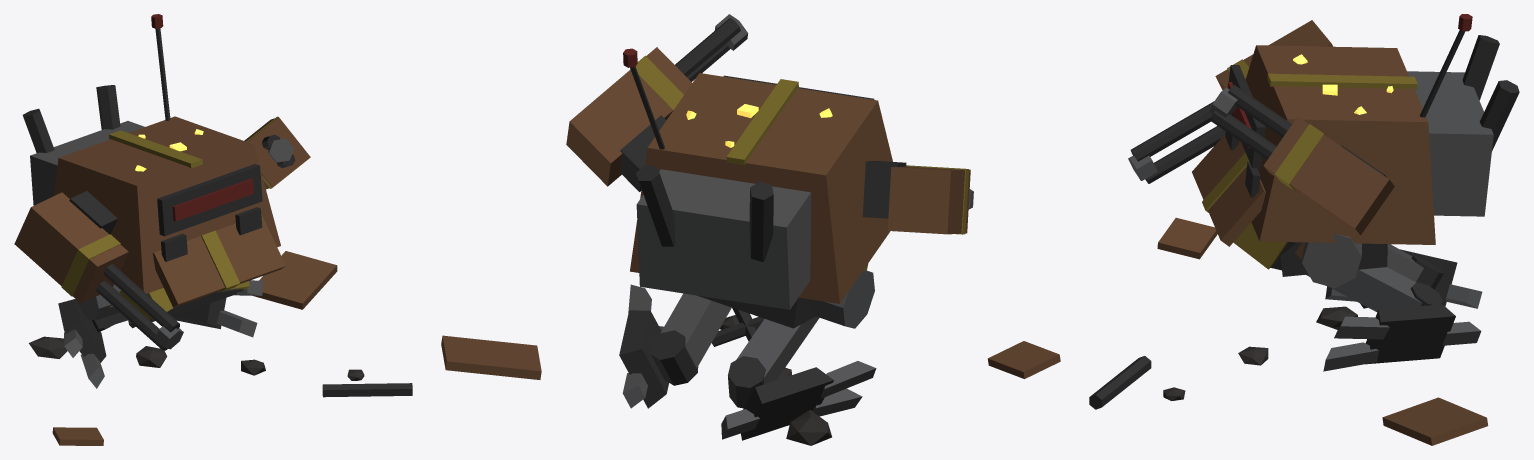
The model's file is loader_husk.glb.
3 renders of one model, left to right at view 1: azimuth 30°, elevation 25°; view 2: azimuth 150°, elevation 25°; view 3: azimuth 270°, elevation 25°, orthographic. The views are drawn at different scales.
Parts seen in each view (by area): view 1: HUSK_Loader_Mesh; view 2: HUSK_Loader_Mesh; view 3: HUSK_Loader_Mesh.
Part boxes in pixels (x1=…): HUSK_Loader_Mesh: x1=14, y1=14, x2=412, y2=445; HUSK_Loader_Mesh: x1=441, y1=14, x2=1060, y2=445; HUSK_Loader_Mesh: x1=1089, y1=14, x2=1519, y2=445.
Size of the model in its own units: 3.49 by 2.59 by 2.87.
